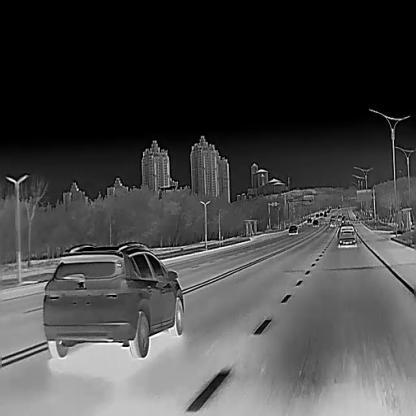car: (42, 240, 184, 358), (337, 223, 357, 247), (288, 224, 297, 235), (329, 219, 335, 227), (312, 218, 318, 226)
